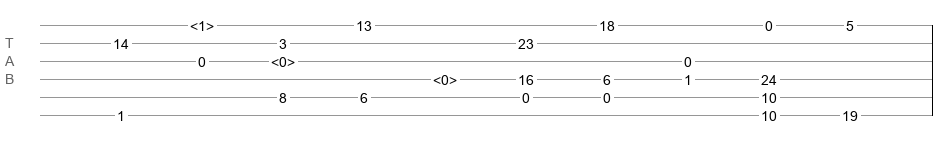0: (198, 54, 206, 64), (522, 90, 530, 100), (603, 90, 611, 100), (684, 54, 692, 64), (765, 18, 773, 28)
1: (117, 108, 125, 118), (684, 72, 692, 82)
10: (761, 90, 777, 100), (761, 108, 777, 118)
13: (356, 18, 372, 28)
14: (113, 36, 129, 46)
16: (518, 72, 534, 82)
18: (599, 18, 615, 28)
19: (842, 108, 858, 118)
23: (518, 36, 534, 46)
24: (761, 72, 777, 82)
3: (279, 36, 287, 46)
5: (846, 18, 854, 28)
6: (360, 90, 368, 100), (603, 72, 611, 82)
8: (279, 90, 287, 100)
harmonic: (190, 18, 214, 28), (271, 54, 295, 64), (433, 72, 457, 82)
